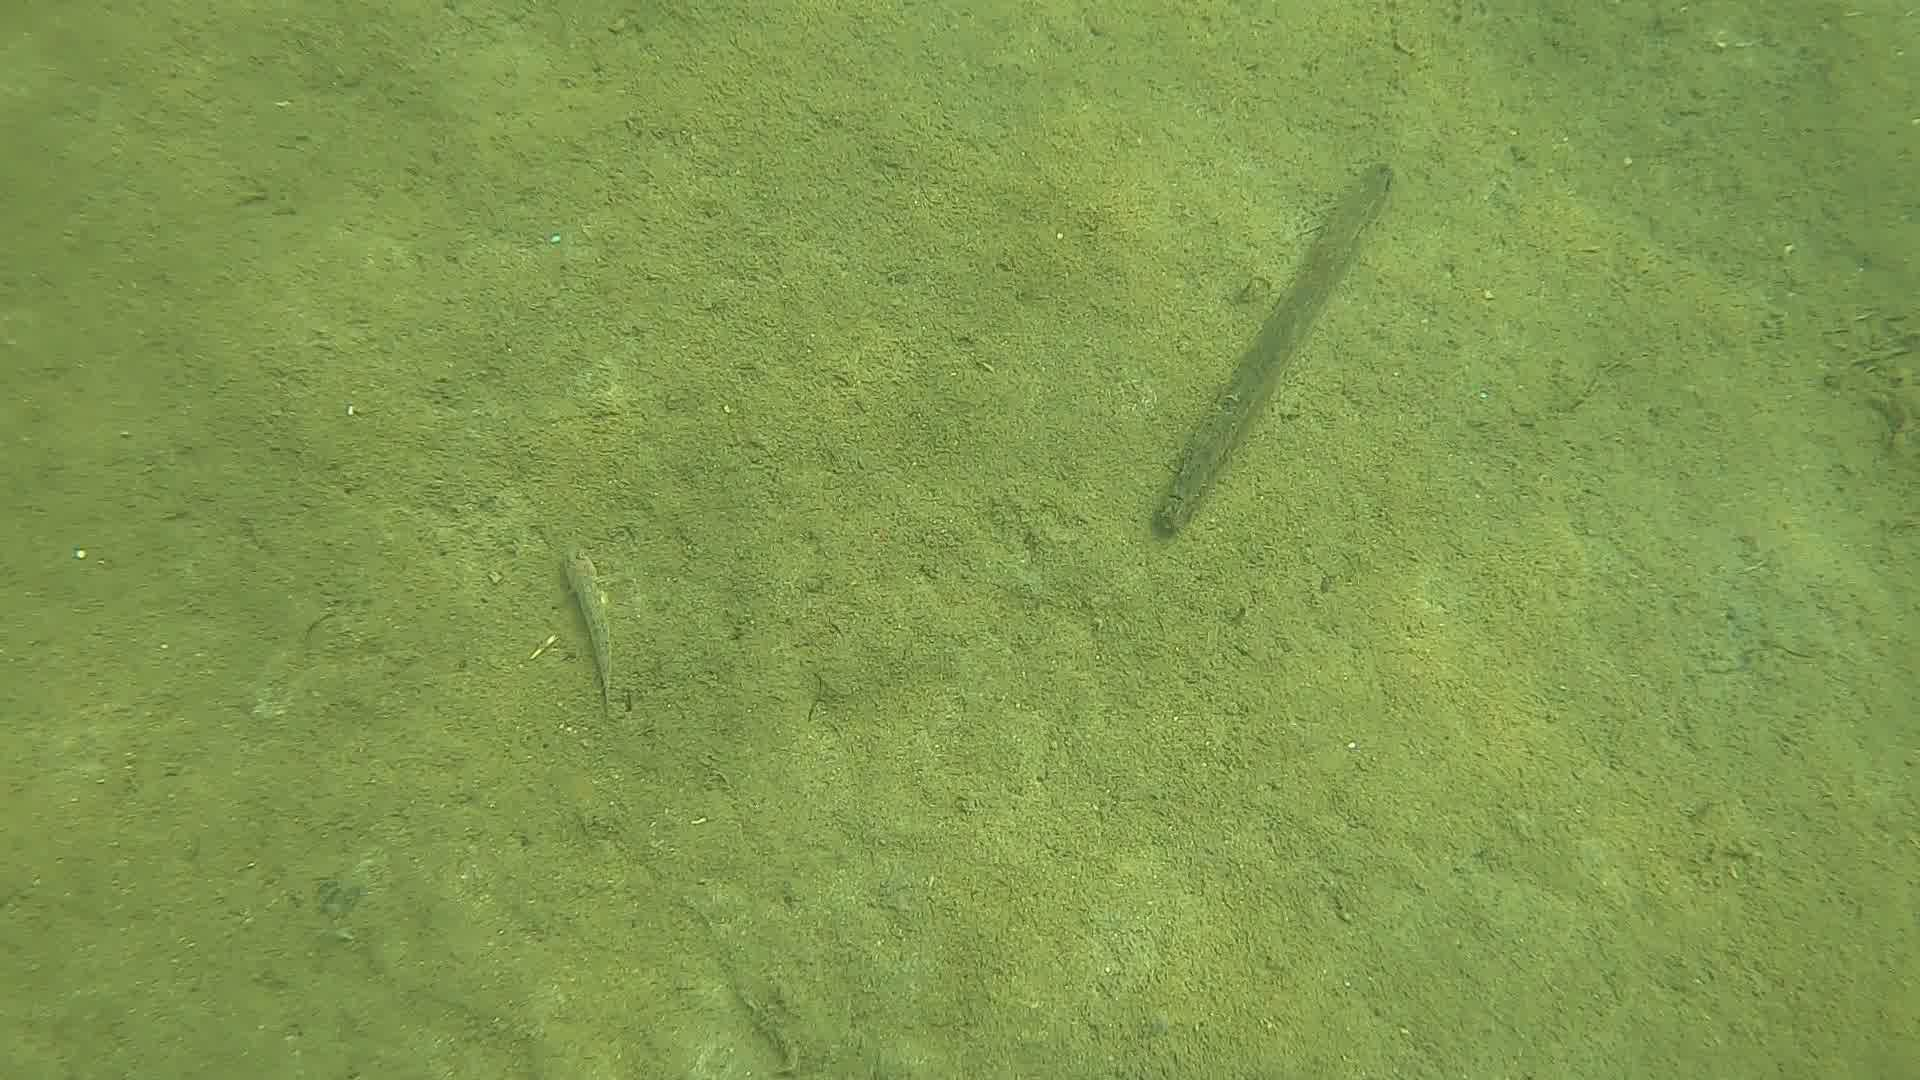wood: (1153, 161, 1396, 527)
